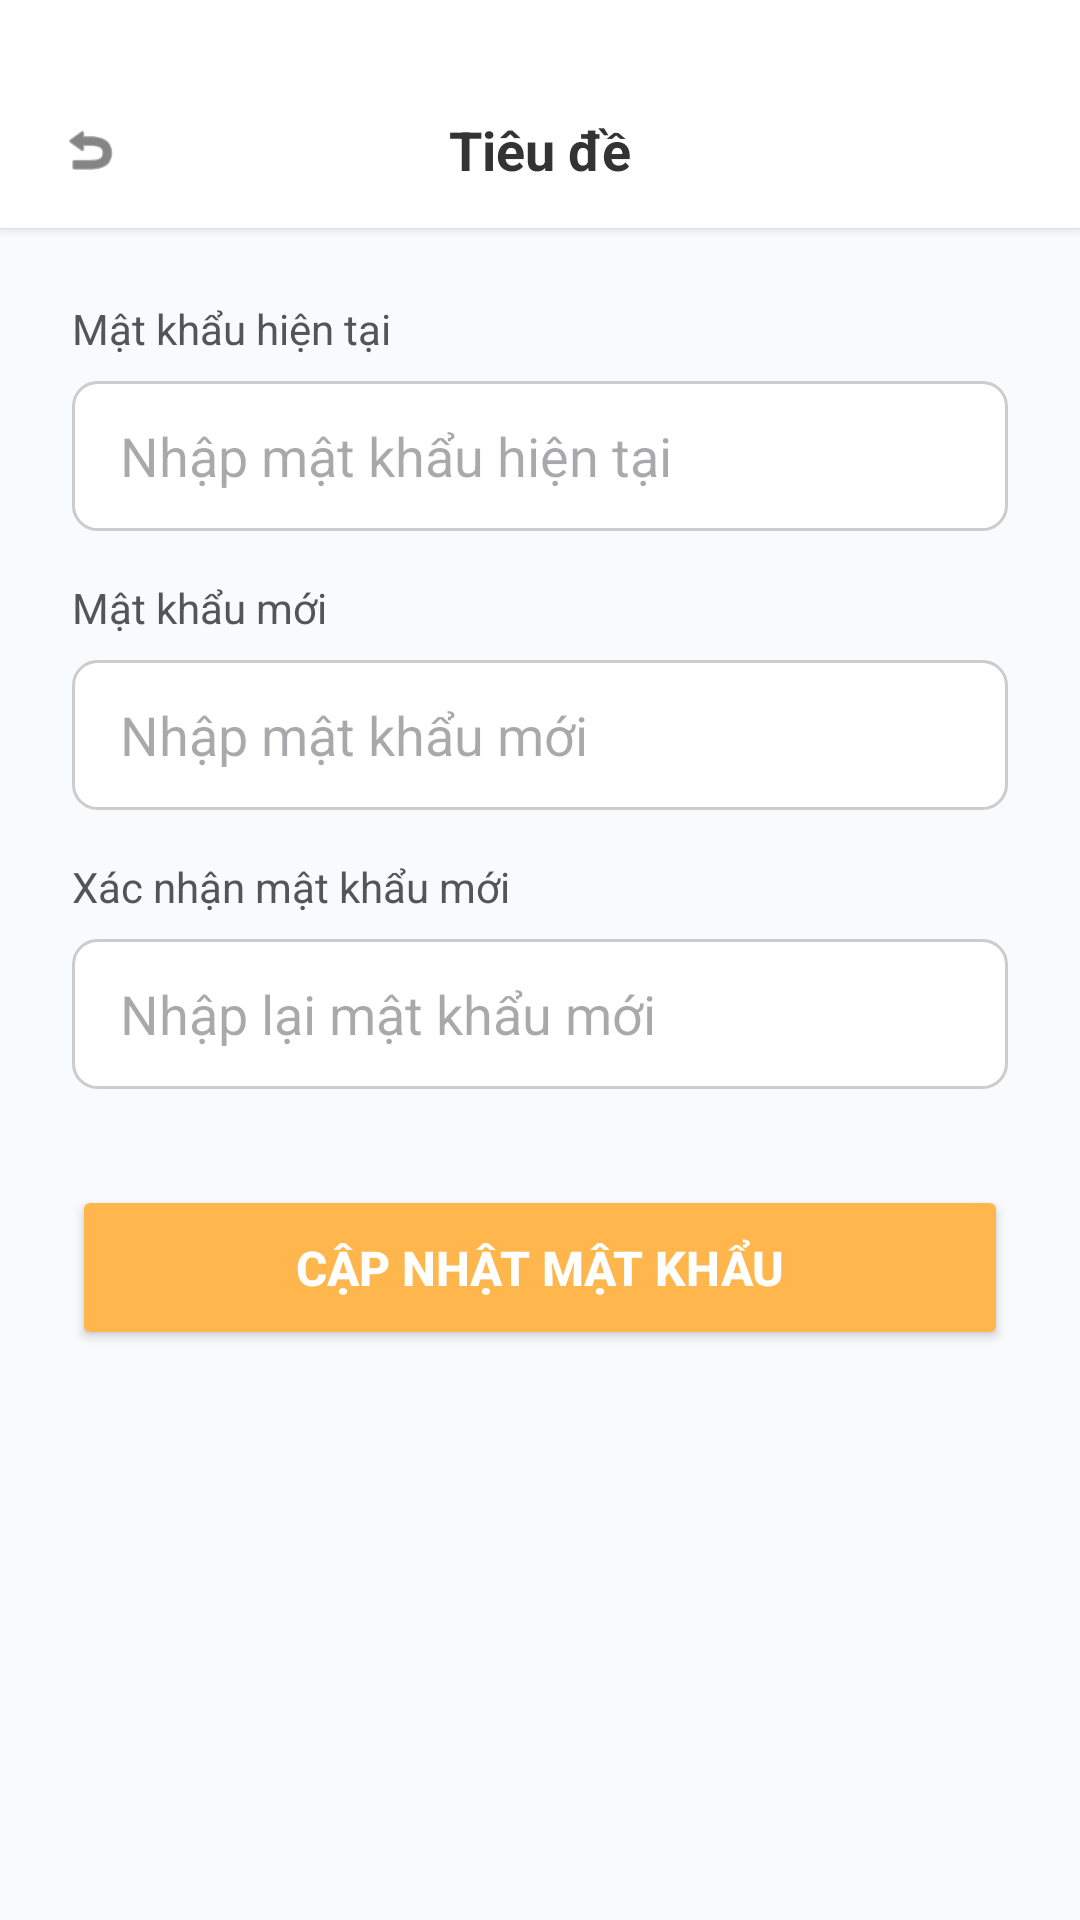

Named icons in this screenshot (1080 × 1920) and their bounding boxes, (x1, y1, x2, y2):
revert: (69, 131, 112, 170)
